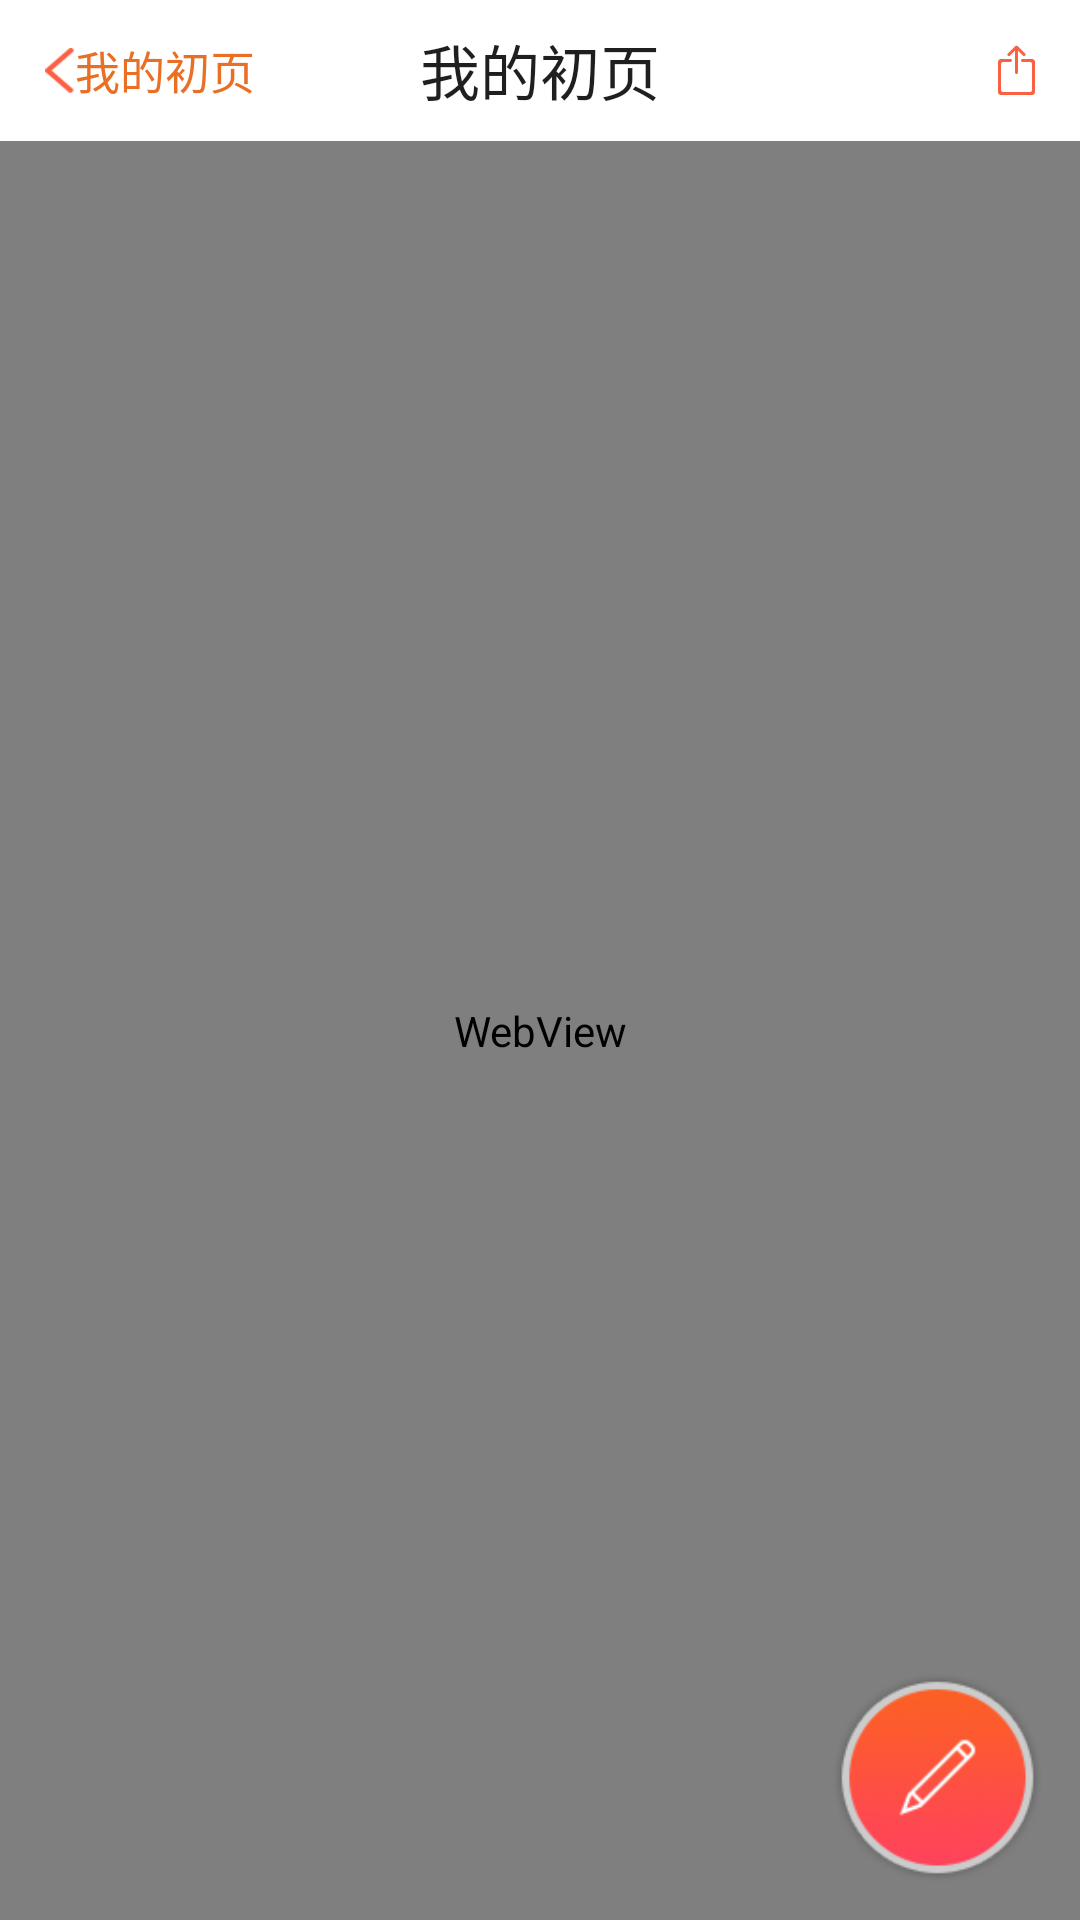

Screen size 1080px x 1920px. Icon name, then its box in pixels as (x1, y1, x2, y2):
edit: (842, 1682, 1033, 1873)
share: (998, 45, 1035, 95)
